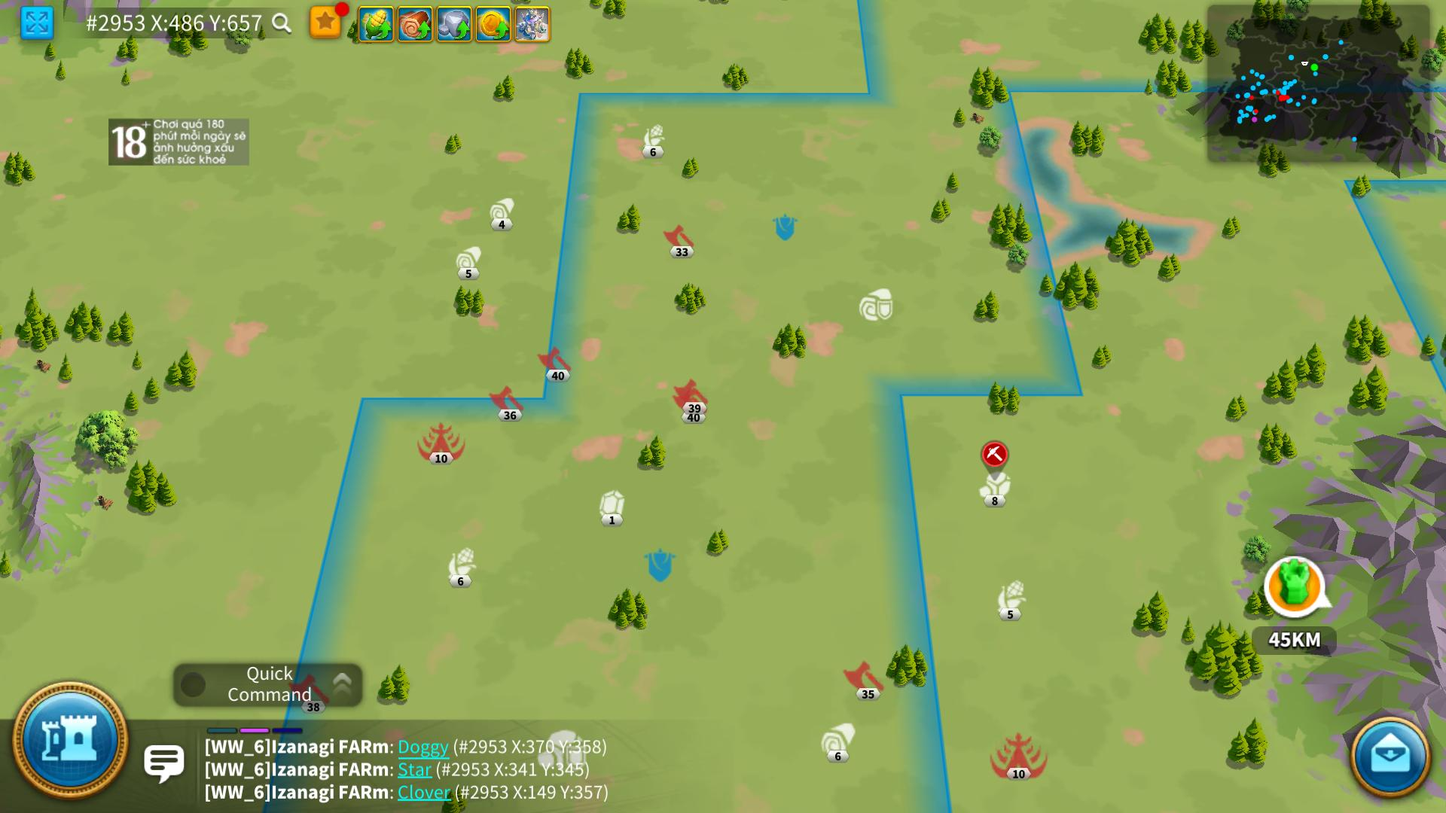gem-z-out: (600, 488, 625, 528)
